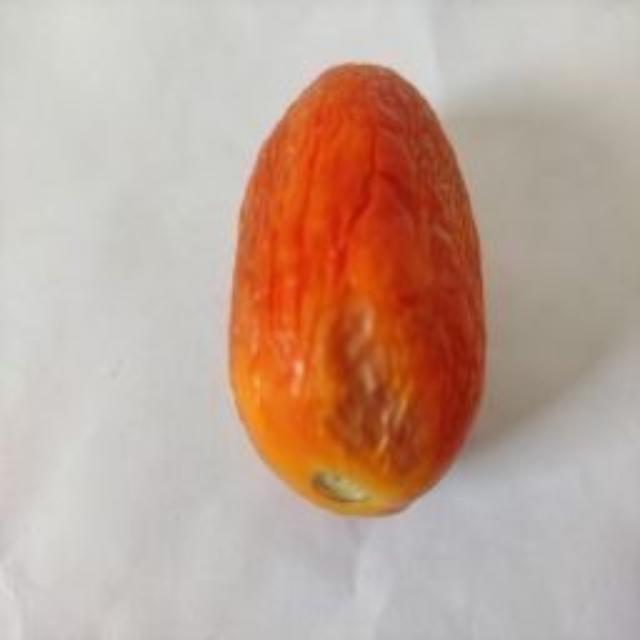defect: (223, 57, 493, 527)
